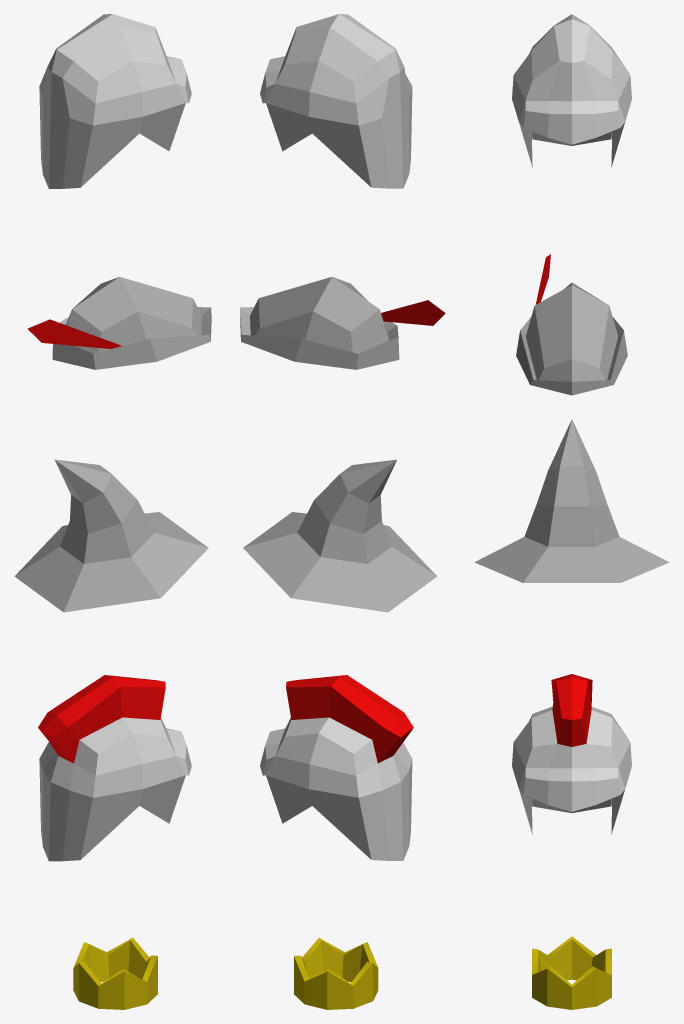
The model's file is LP_ElfHats.fbx.
3 views of the same model, side by side, from view 1: azimuth 30°, elevation 25°; view 2: azimuth 150°, elevation 25°; view 3: azimuth 270°, elevation 25° (orthographic).
Parts seen in each view (by area): view 1: pCube13, pCube23, pasted__pCone3, pCube19, pPipe4; view 2: pCube13, pCube23, pasted__pCone3, pCube19, pPipe4; view 3: pasted__pCone3, pCube13, pCube23, pCube19, pPipe4.
Boxes of the visible parts, x1,y1,x2,y2 form: pCube13: [38, 675, 191, 861]; pCube23: [39, 14, 191, 188]; pasted__pCone3: [14, 459, 208, 612]; pCube19: [27, 276, 211, 369]; pPipe4: [73, 938, 157, 1009]; pCube13: [260, 675, 413, 860]; pCube23: [260, 14, 412, 188]; pasted__pCone3: [243, 459, 437, 612]; pCube19: [240, 277, 445, 369]; pPipe4: [294, 938, 378, 1009]; pasted__pCone3: [474, 419, 669, 582]; pCube13: [512, 674, 631, 834]; pCube23: [512, 14, 631, 167]; pCube19: [516, 254, 627, 395]; pPipe4: [532, 936, 611, 1009].
Bounding box in the file's own units: 0.9017 × 4.33 × 0.7897.
